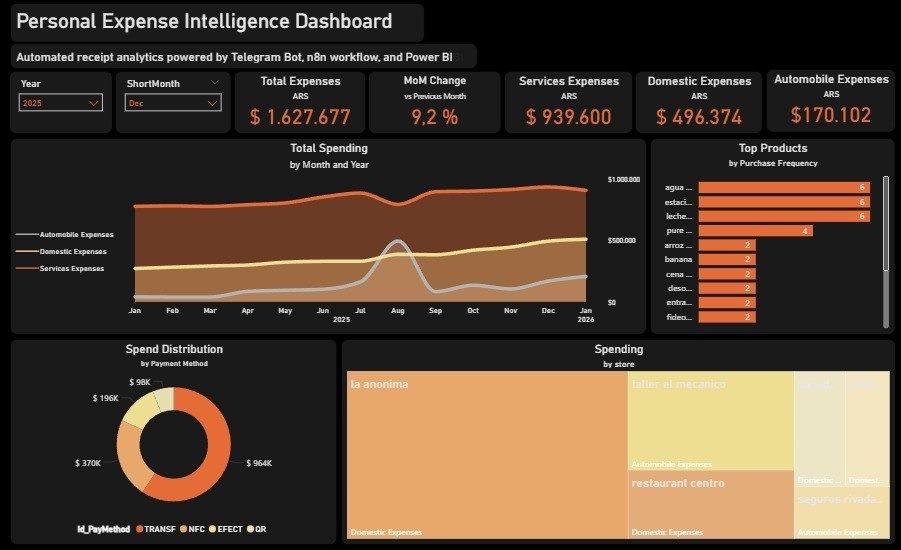

Layout of this report page (visuals, bound fields, positions):
{"tool":"powerbi","page":{"name":"Dashboard","canvas":[1280,780],"ordinal":0},"visuals":[{"type":"lineChart","title":"Total Spending","fields":{"Y":["DAX.Automobile Expenses","DAX.Domestic Expenses","DAX.Services Expenses"],"Category":["Dim_Date.Date.Variación.Jerarquía de fechas.Año","Dim_Date.ShortMonth"]},"box":[13.4,199,904.3,279.2],"z":0},{"type":"treemap","title":"Spending","fields":{"Values":["DAX.Domestic Expenses","DAX.Automobile Expenses"],"Group":["Dim_Store.Store"]},"box":[488.5,487.8,782.6,286.6],"z":1000},{"type":"card","title":"Total Expenses","fields":{"Values":["DAX.Total Gasto"]},"box":[332.5,100.6,187.1,89.1],"z":2000},{"type":"card","title":"Services Expenses","fields":{"Values":["DAX.Total Services Expenses"]},"box":[716,100.4,182.9,88.9],"z":3000},{"type":"card","title":"Domestic Expenses","fields":{"Values":["DAX.Total Home Expenses"]},"box":[902.7,100.6,181.2,89.1],"z":4000},{"type":"card","title":"Automobile Expenses","fields":{"Values":["DAX.Automobile Expenses"]},"box":[1085.9,103.9,184.1,89.1],"z":5000},{"type":"donutChart","title":"Spend Distribution ","fields":{"Category":["Dim_PayMethod.Id_PayMethod"],"Y":["DAX.Total"]},"box":[13.4,489.3,464.8,283.6],"z":6000},{"type":"clusteredBarChart","title":"Top Products","fields":{"Category":["Dim_Product.Product"],"Y":["DAX.Total Units"]},"box":[929.6,199,340,279.2],"z":7000},{"type":"slicer","fields":{"Values":["Dim_Date.Year"]},"box":[12.8,100.6,147,89.1],"z":8000},{"type":"slicer","title":"Filter","fields":{"Values":["Dim_Date.ShortMonth"]},"box":[163.7,100.6,164.8,89.1],"z":9000},{"type":"card","title":"MoM Change","fields":{"Values":["DAX.Total Spend MoM %"]},"box":[523.5,100.6,188.6,89.1],"z":10000},{"type":"textbox","box":[0,0,570.2,56.4],"z":11000},{"type":"textbox","box":[0,59.1,639.5,36.8],"z":12000}]}

Visuals, with their boxes in screenshot pixels (x1, y1, x2, y2), scaled from the page's 1280x780 canvas onto the 901x550 screenshot:
"Total Spending" lineChart: BBox(9, 140, 646, 337)
"Spending" treemap: BBox(344, 344, 895, 546)
"Total Expenses" card: BBox(234, 71, 366, 134)
"Services Expenses" card: BBox(504, 71, 633, 133)
"Domestic Expenses" card: BBox(635, 71, 763, 134)
"Automobile Expenses" card: BBox(764, 73, 894, 136)
"Spend Distribution " donutChart: BBox(9, 345, 337, 545)
"Top Products" clusteredBarChart: BBox(654, 140, 894, 337)
slicer - Dim_Date.Year: BBox(9, 71, 112, 134)
"Filter" slicer: BBox(115, 71, 231, 134)
"MoM Change" card: BBox(368, 71, 501, 134)
textbox: BBox(0, 0, 401, 40)
textbox: BBox(0, 42, 450, 68)
